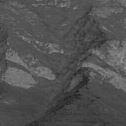Target: (50, 71, 63, 80)
